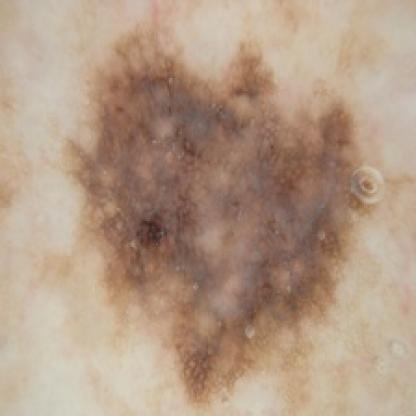Skin_Cancer-Malignant: (64, 21, 382, 411)
